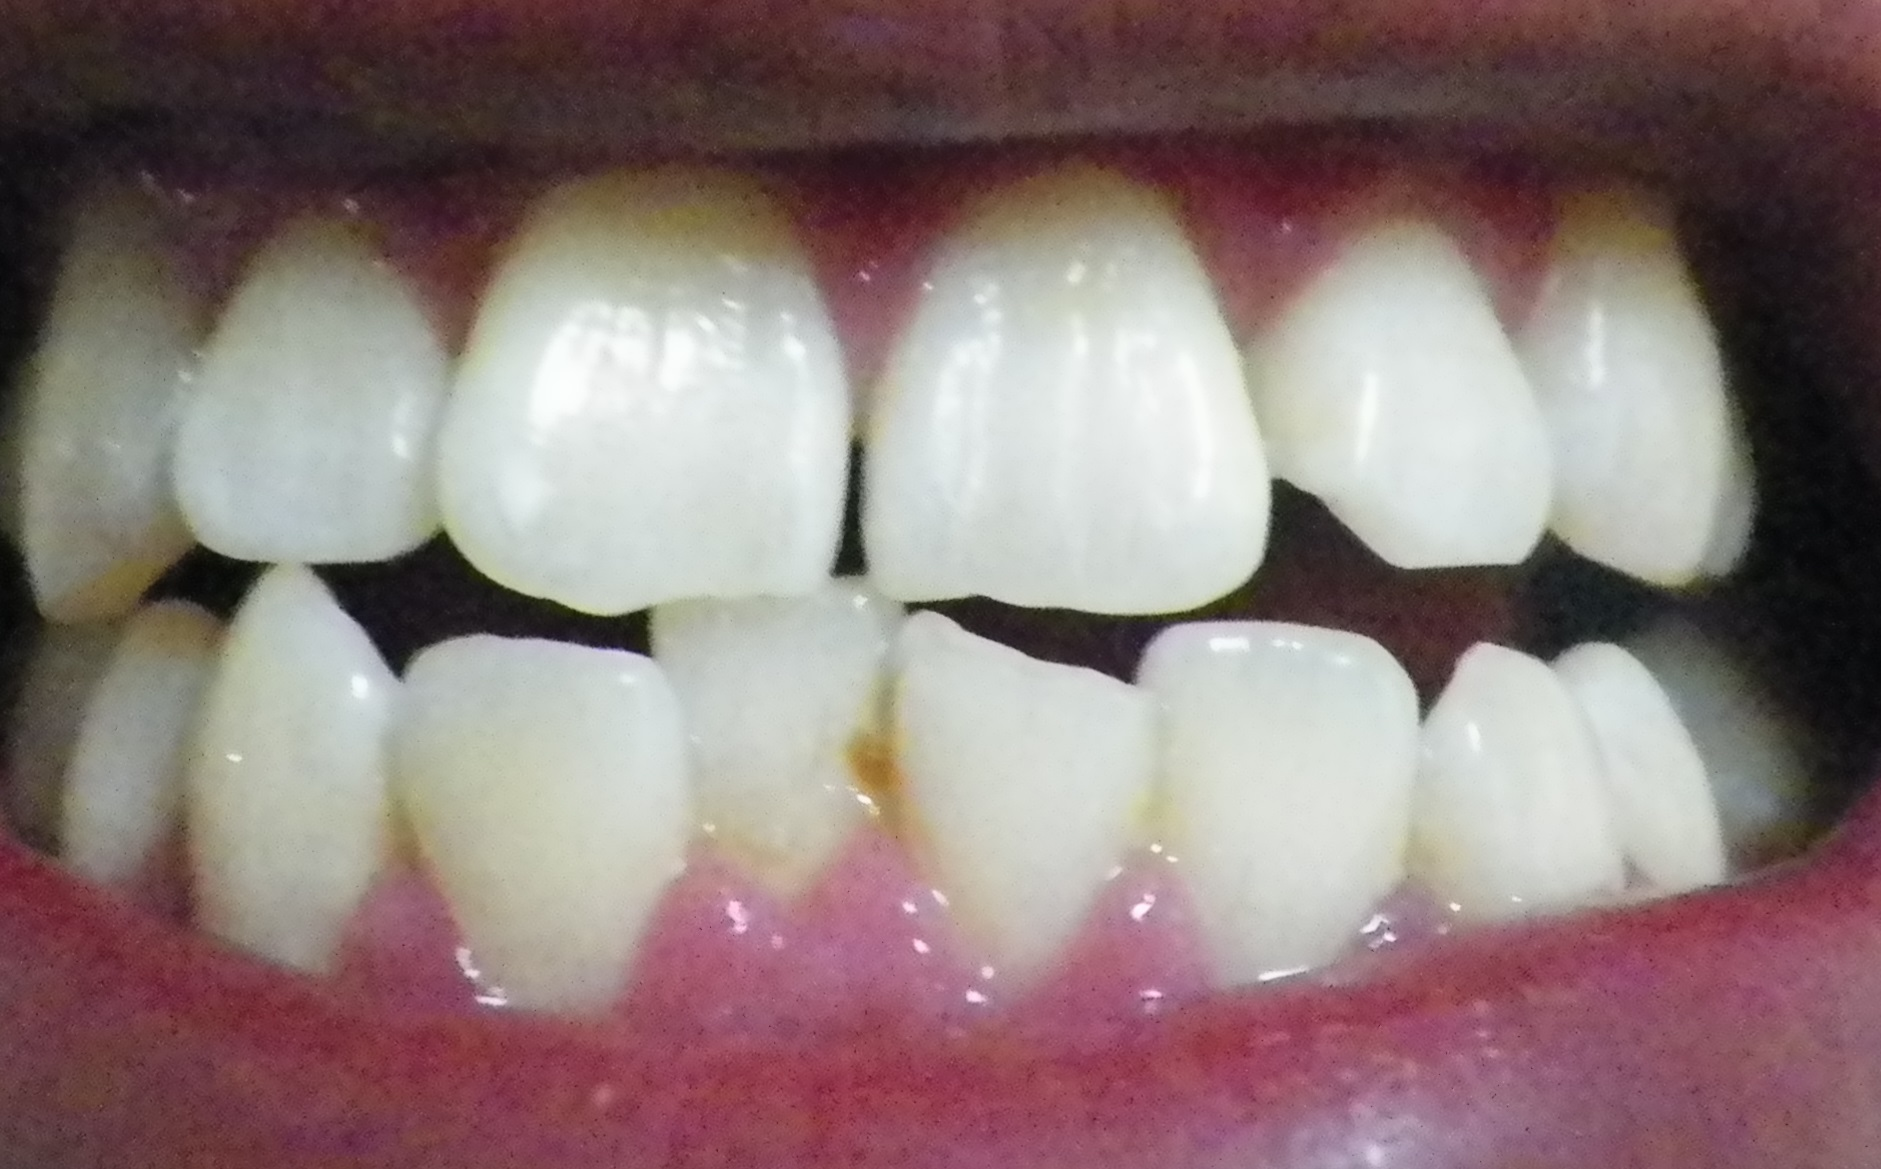boca: (5, 185, 1845, 1006)
